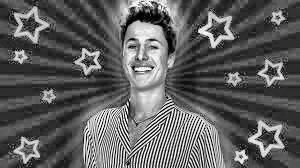happy: (121, 6, 196, 112)
